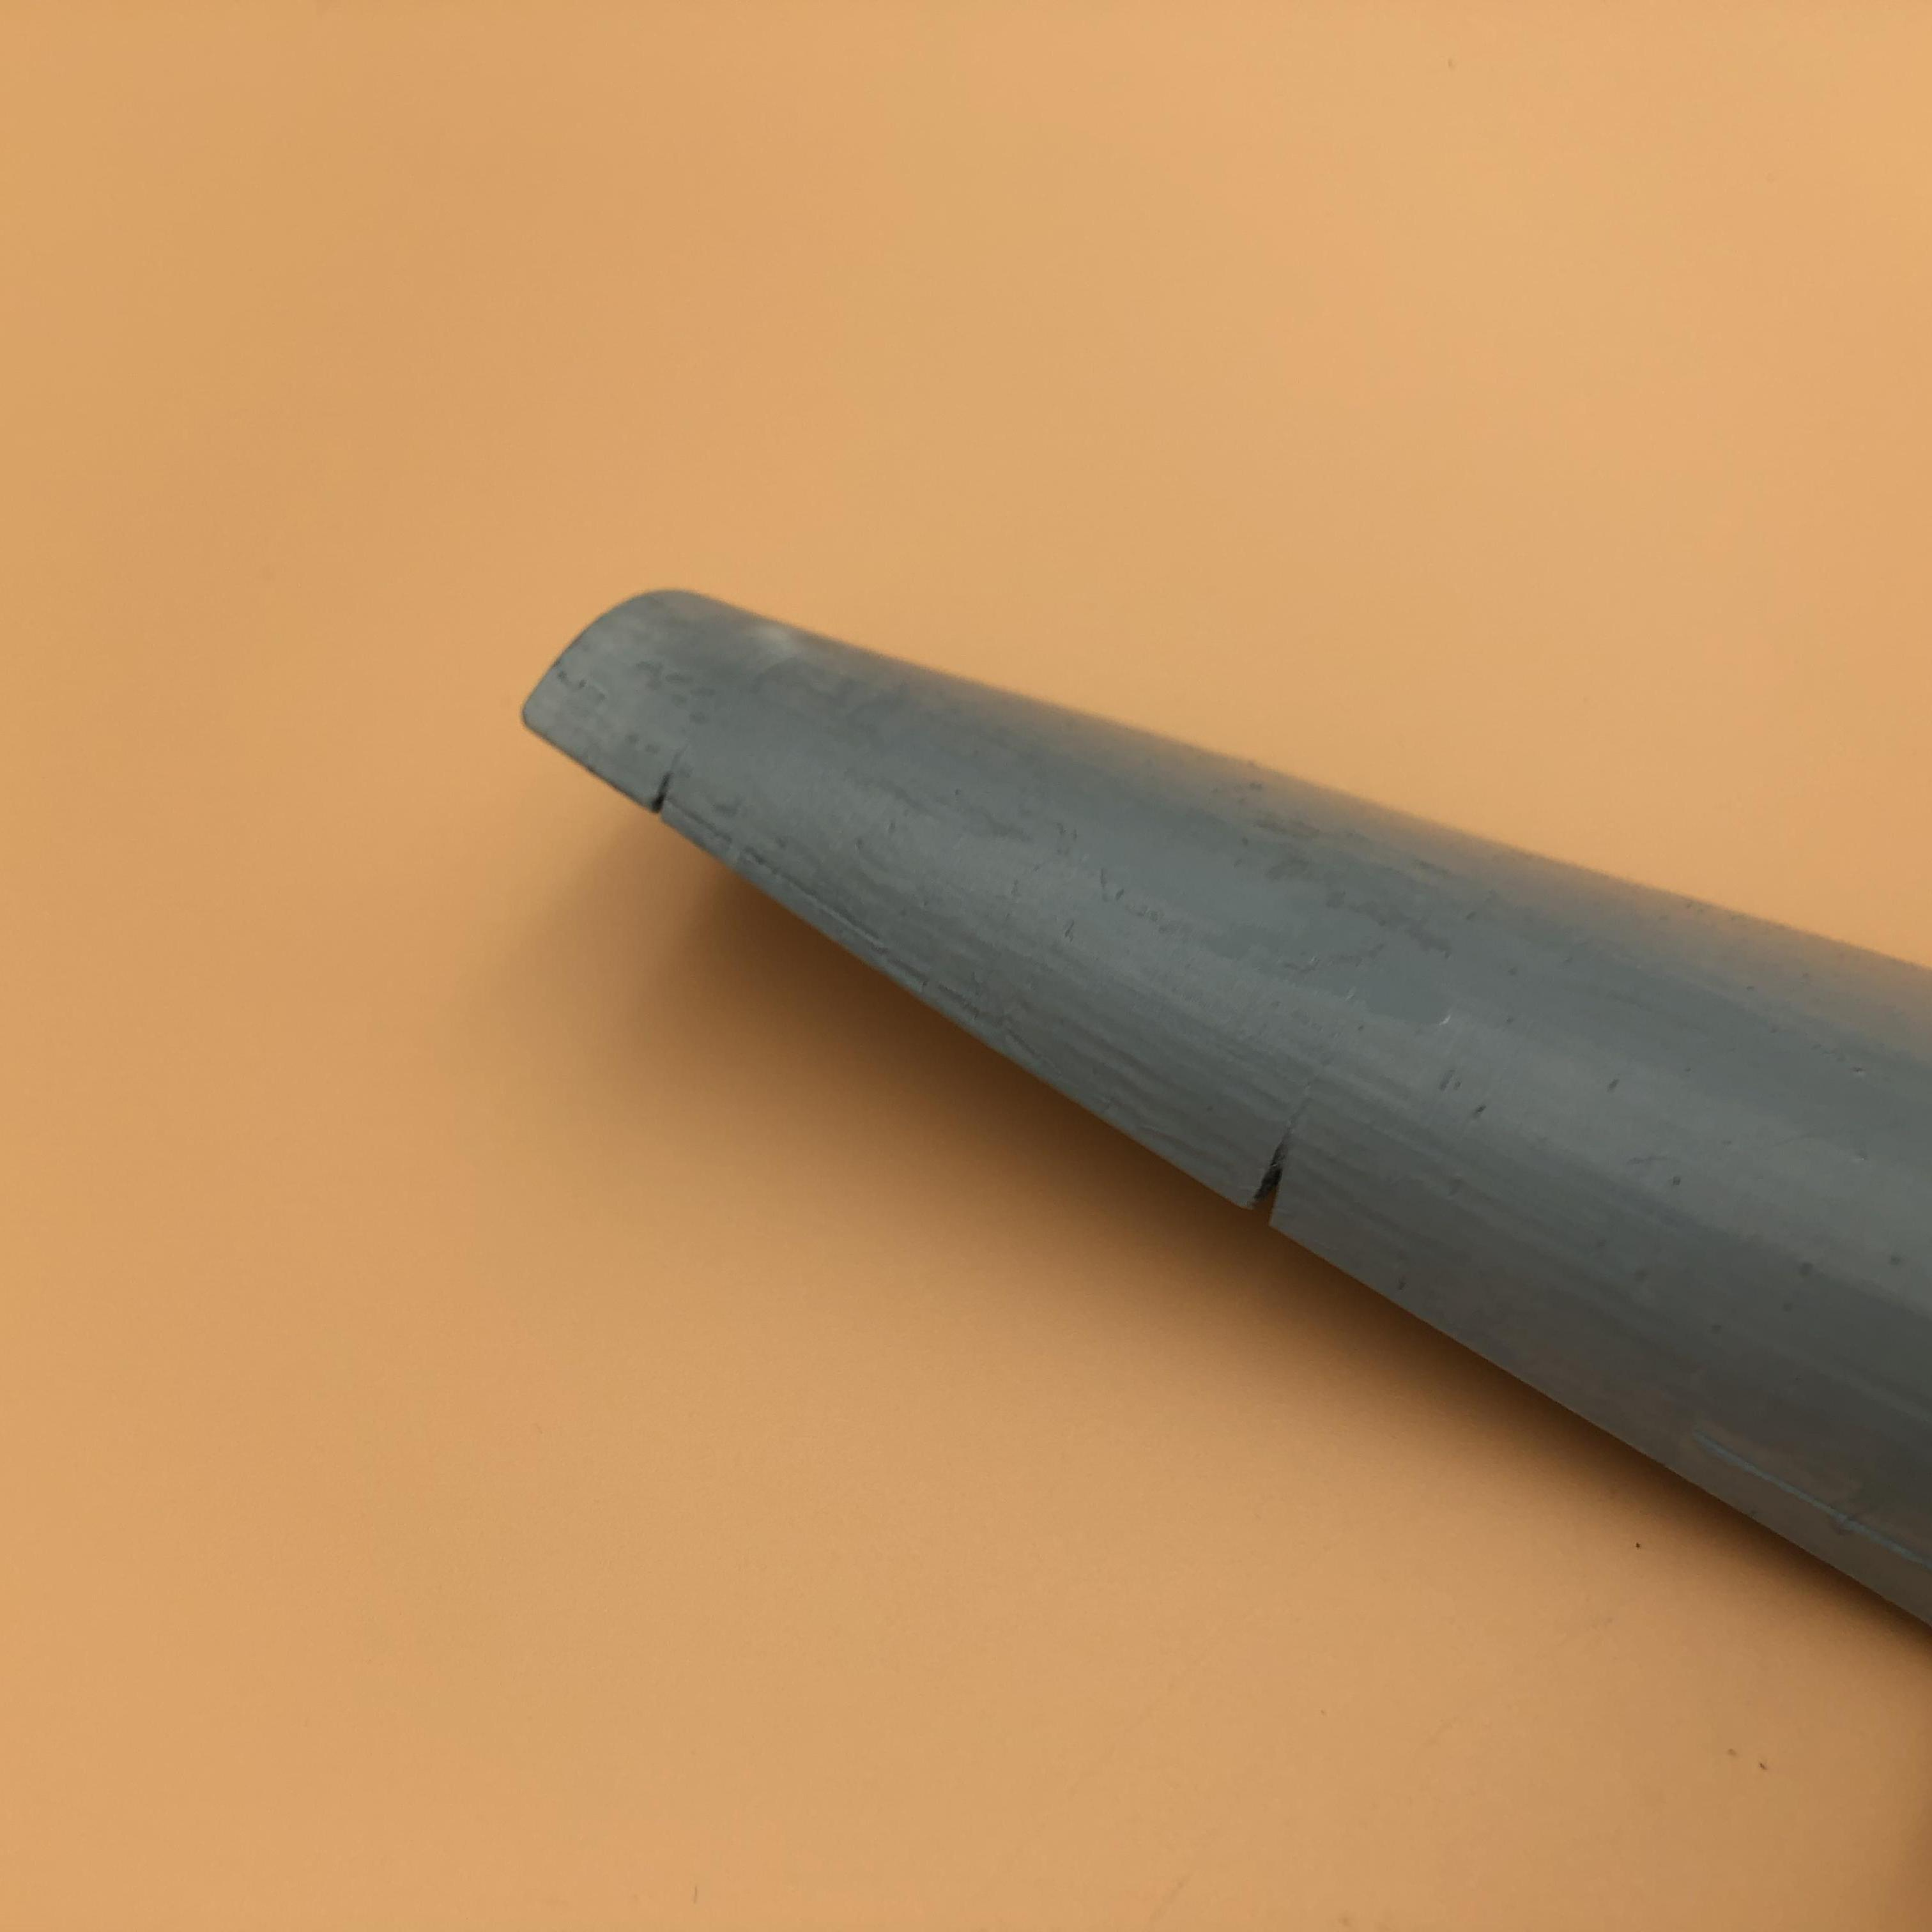groove: (1247, 1125, 1306, 1230), (646, 768, 688, 812)
